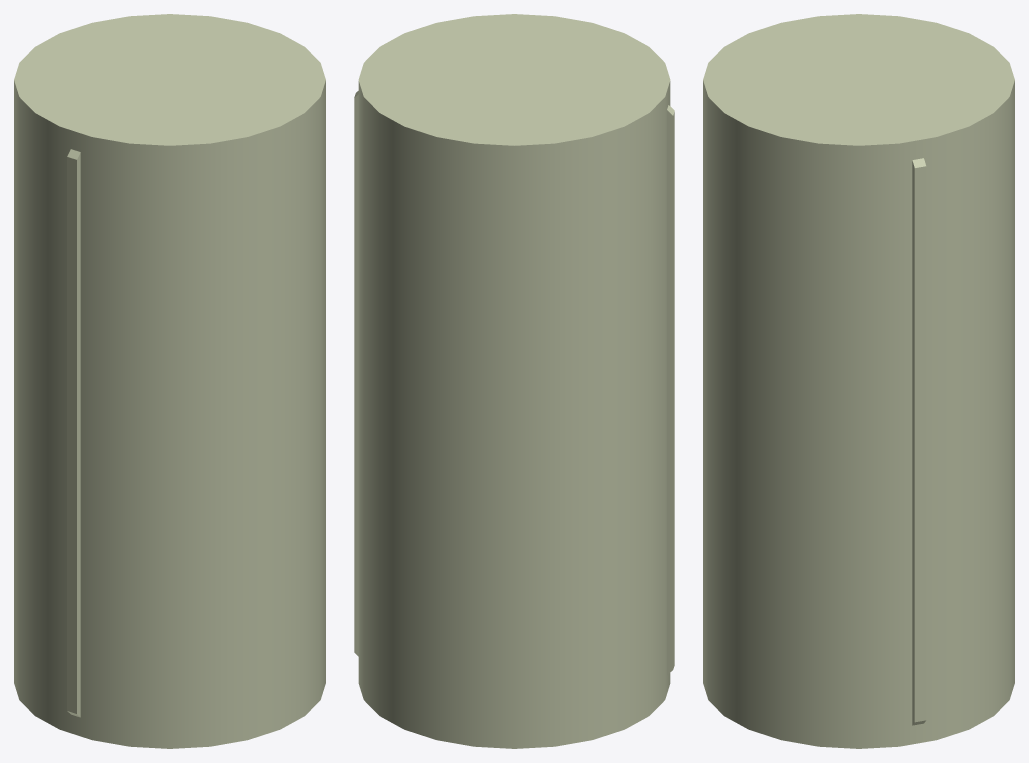
Rendered from tantares_lv_fuel_tank_s1p5_3.obj.
The picture shows the model from 3 angles, left to right: view 1: azimuth 30°, elevation 25°; view 2: azimuth 150°, elevation 25°; view 3: azimuth 270°, elevation 25°; orthographic projection.
Parts seen in each view (by area): view 1: tantares_lv_fuel_tank_s1p5_3; view 2: tantares_lv_fuel_tank_s1p5_3; view 3: tantares_lv_fuel_tank_s1p5_3.
Boxes of the visible parts, bbox=[...] form: tantares_lv_fuel_tank_s1p5_3: bbox=[14, 14, 325, 748]; tantares_lv_fuel_tank_s1p5_3: bbox=[354, 14, 674, 748]; tantares_lv_fuel_tank_s1p5_3: bbox=[703, 14, 1014, 748].
Bounding box in the file's own units: 1.88 × 4 × 1.88.
